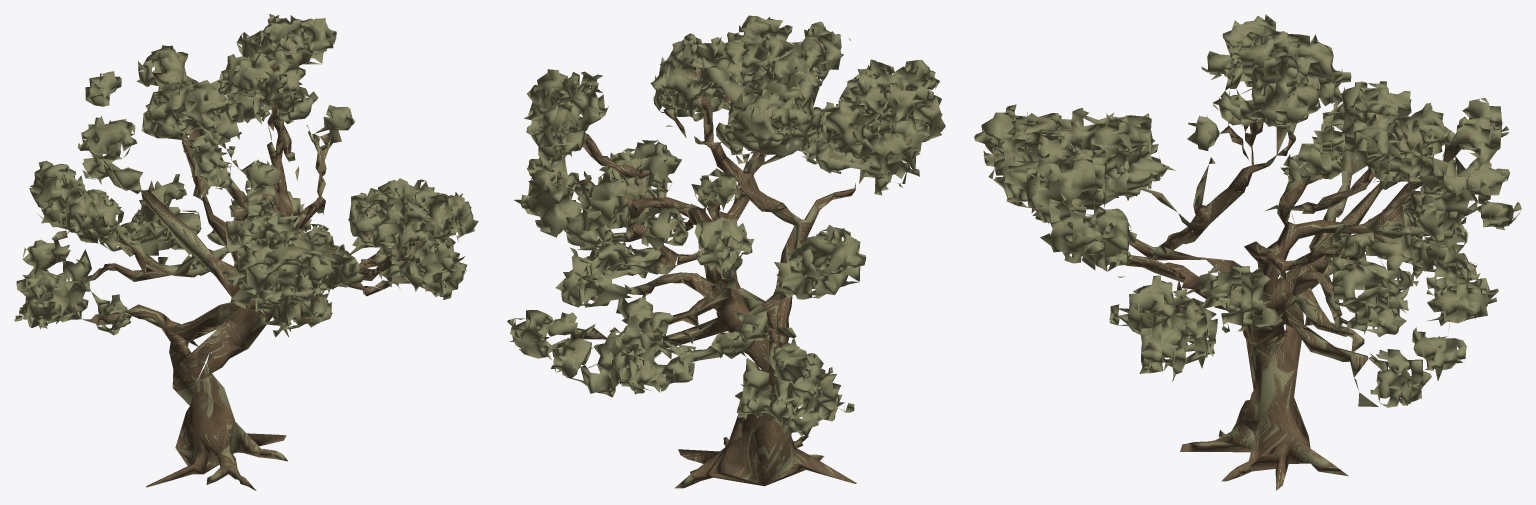
File: mesquite-web.glb
3 views of the same model, side by side, from view 1: azimuth 30°, elevation 25°; view 2: azimuth 150°, elevation 25°; view 3: azimuth 270°, elevation 25° (orthographic). The views are drawn at different scales.
Bounding box in the file's own units: 4.4 × 4.8 × 5.56.
Materials: 1 (1 with a texture image).
